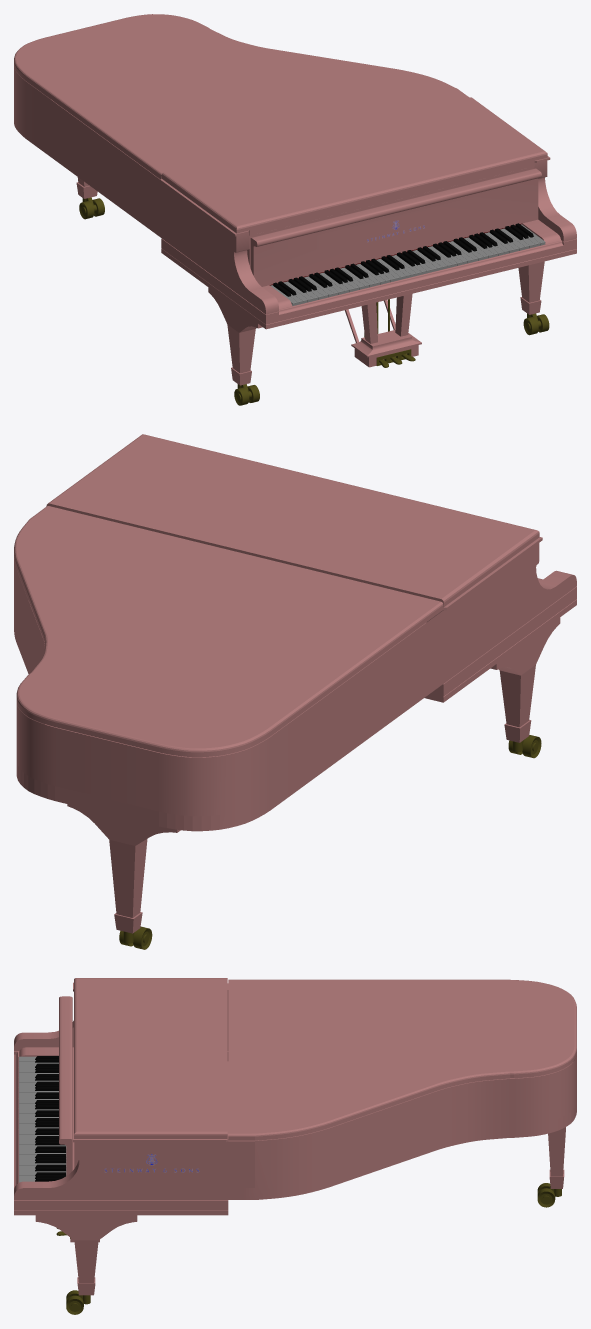
Rendered from asset.glb.
3 renders of one model, top to bottom at view 1: azimuth 30°, elevation 25°; view 2: azimuth 150°, elevation 25°; view 3: azimuth 270°, elevation 25°, orthographic. The views are drawn at different scales.
Size of the model in its own units: 4.43 by 2.4 by 6.68.
Materials: 6 (1 with a texture image).
